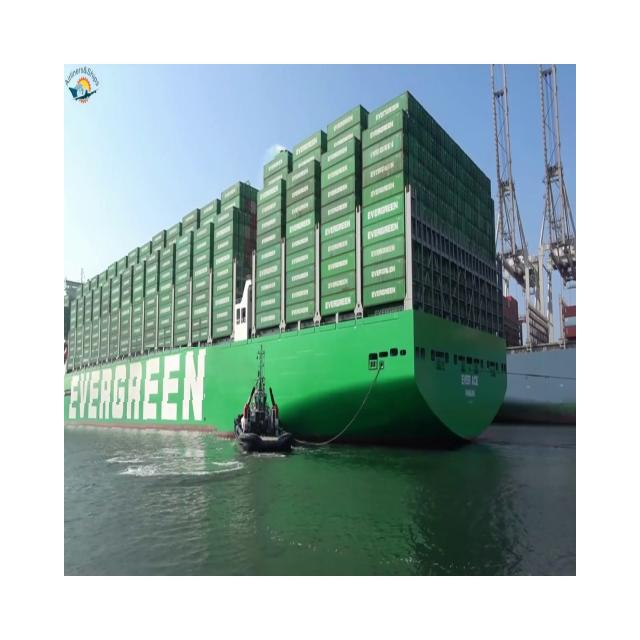OCR: (65, 348, 221, 448)
